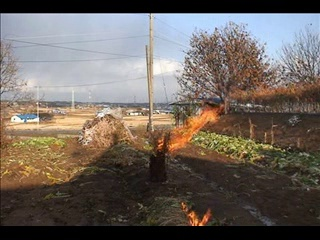fire: (155, 104, 221, 154), (179, 196, 212, 225)
